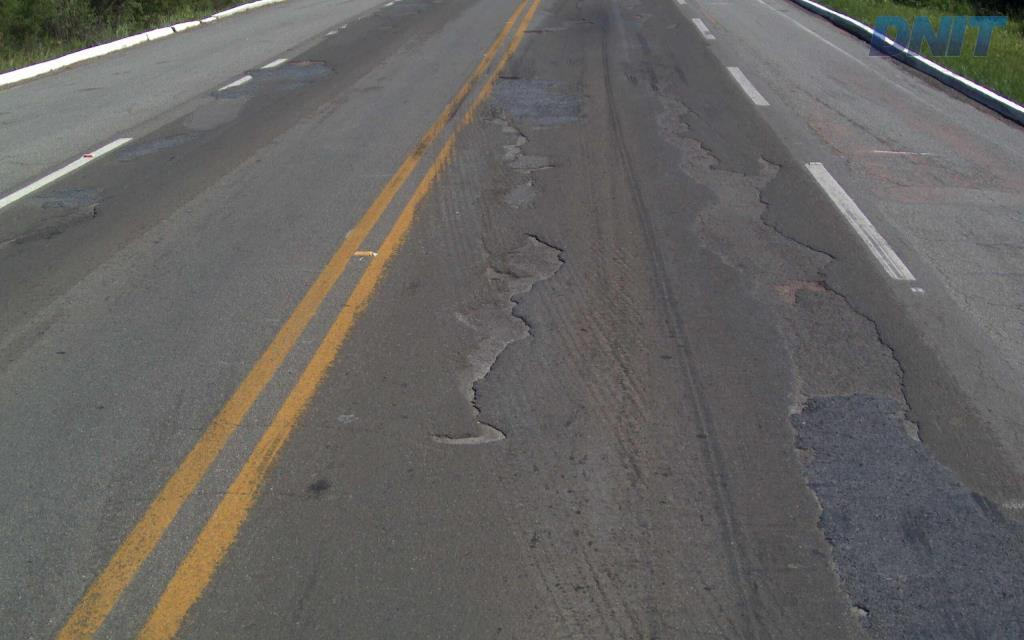pothole: (651, 84, 941, 469), (423, 229, 567, 449), (475, 111, 564, 189), (844, 594, 870, 622)
